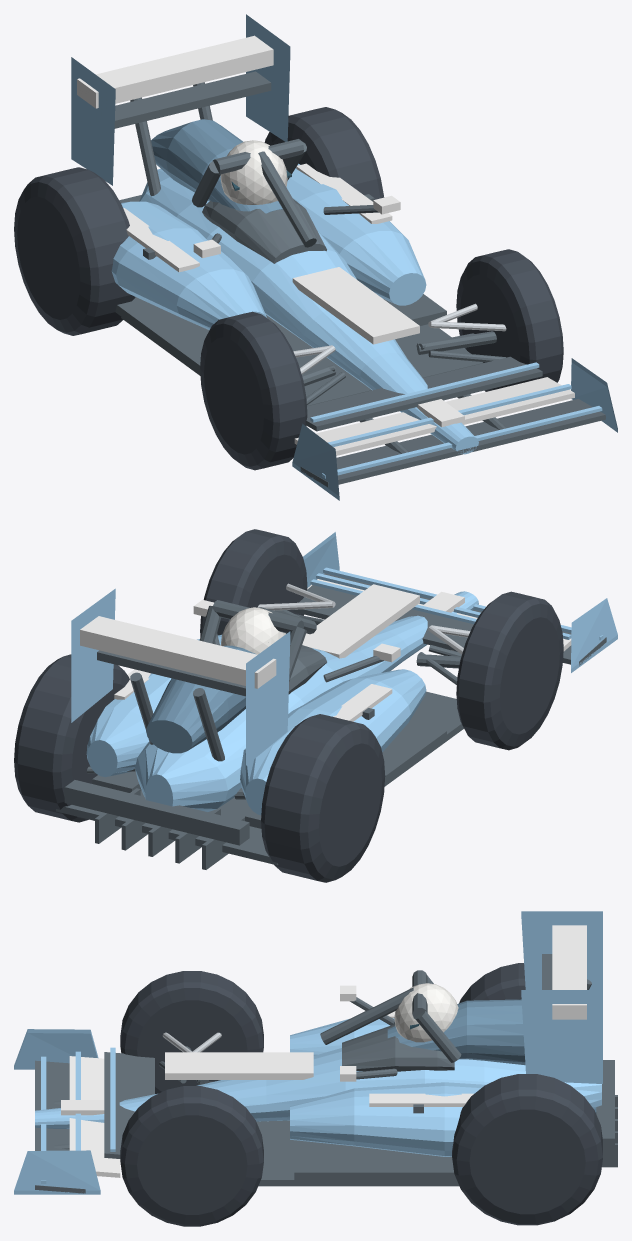
Rendered from williams_high.glb.
The picture shows the model from 3 angles, top to bottom: view 1: azimuth 30°, elevation 25°; view 2: azimuth 150°, elevation 25°; view 3: azimuth 270°, elevation 25°; orthographic projection. The views are drawn at different scales.
Parts seen in each view (by area): view 1: BODY_paint, BODY_carbon, BODY_accent, RearLeftWheel_rubber, FrontLeftWheel_rubber, FrontRightWheel_rubber, RearRightWheel_rubber, BODY_paint_dark, BODY_helmet, BODY_metal; view 2: BODY_paint, BODY_carbon, RearLeftWheel_rubber, FrontLeftWheel_rubber, BODY_accent, RearRightWheel_rubber, FrontRightWheel_rubber, BODY_paint_dark, BODY_helmet, BODY_metal; view 3: BODY_paint, BODY_carbon, RearRightWheel_rubber, FrontRightWheel_rubber, BODY_accent, FrontLeftWheel_rubber, BODY_paint_dark, BODY_helmet, RearLeftWheel_rubber.
Part boxes in pixels (box(x1,y1,x2,y2)): BODY_paint: box(71, 14, 617, 500); BODY_carbon: box(114, 71, 605, 486); BODY_accent: box(77, 35, 574, 455); RearLeftWheel_rubber: box(14, 167, 135, 335); FrontLeftWheel_rubber: box(200, 311, 307, 470); FrontRightWheel_rubber: box(456, 249, 563, 391); RearRightWheel_rubber: box(264, 107, 384, 199); BODY_paint_dark: box(151, 119, 282, 213); BODY_helmet: box(220, 140, 287, 204); BODY_metal: box(293, 303, 506, 374); BODY_paint: box(71, 532, 617, 815); BODY_carbon: box(56, 573, 606, 869); RearLeftWheel_rubber: box(261, 714, 385, 882); FrontLeftWheel_rubber: box(456, 591, 563, 750); BODY_accent: box(80, 579, 571, 721); RearRightWheel_rubber: box(14, 654, 129, 822); FrontRightWheel_rubber: box(200, 529, 307, 636); BODY_paint_dark: box(146, 645, 256, 753); BODY_helmet: box(220, 607, 285, 654); BODY_metal: box(257, 583, 470, 654); BODY_paint: box(14, 911, 602, 1194); BODY_carbon: box(35, 954, 617, 1193); RearRightWheel_rubber: box(452, 1074, 602, 1225); FrontRightWheel_rubber: box(120, 1086, 263, 1226); BODY_accent: box(61, 925, 586, 1177); FrontLeftWheel_rubber: box(120, 971, 263, 1093); BODY_paint_dark: box(387, 999, 525, 1065); BODY_helmet: box(394, 983, 458, 1042); RearLeftWheel_rubber: box(459, 963, 525, 1003).
Size of the model in its own units: 2.59 by 1.9 by 4.88.
